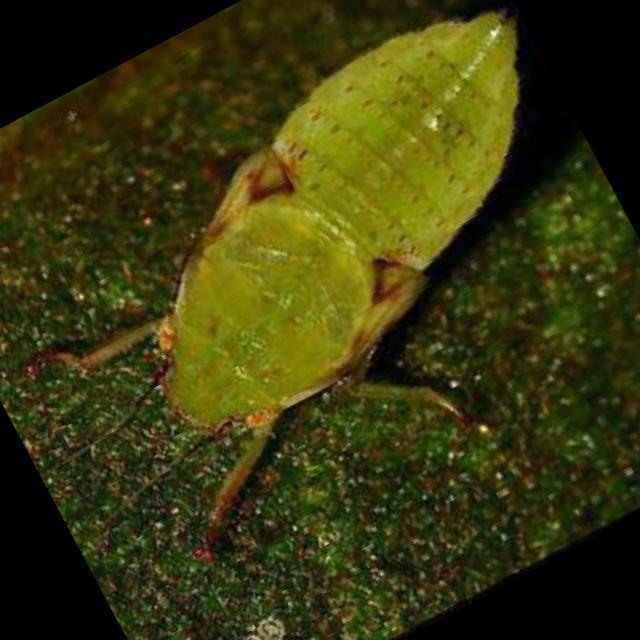green-leafhopper: (20, 9, 516, 559)
